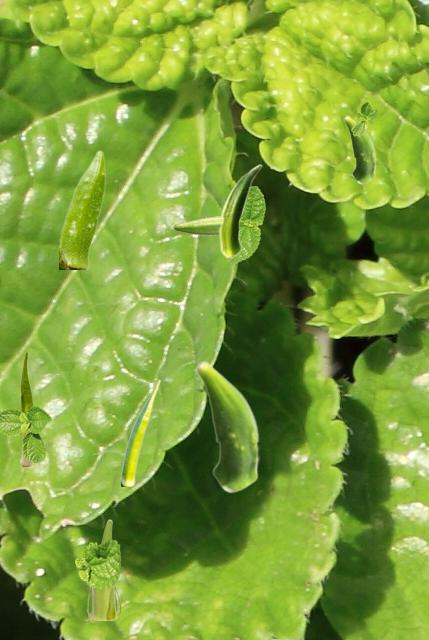okra: (195, 360, 259, 492), (59, 149, 105, 268), (218, 164, 261, 258), (121, 379, 159, 485), (86, 519, 119, 619), (343, 115, 375, 183), (173, 216, 261, 234), (20, 352, 33, 465)
